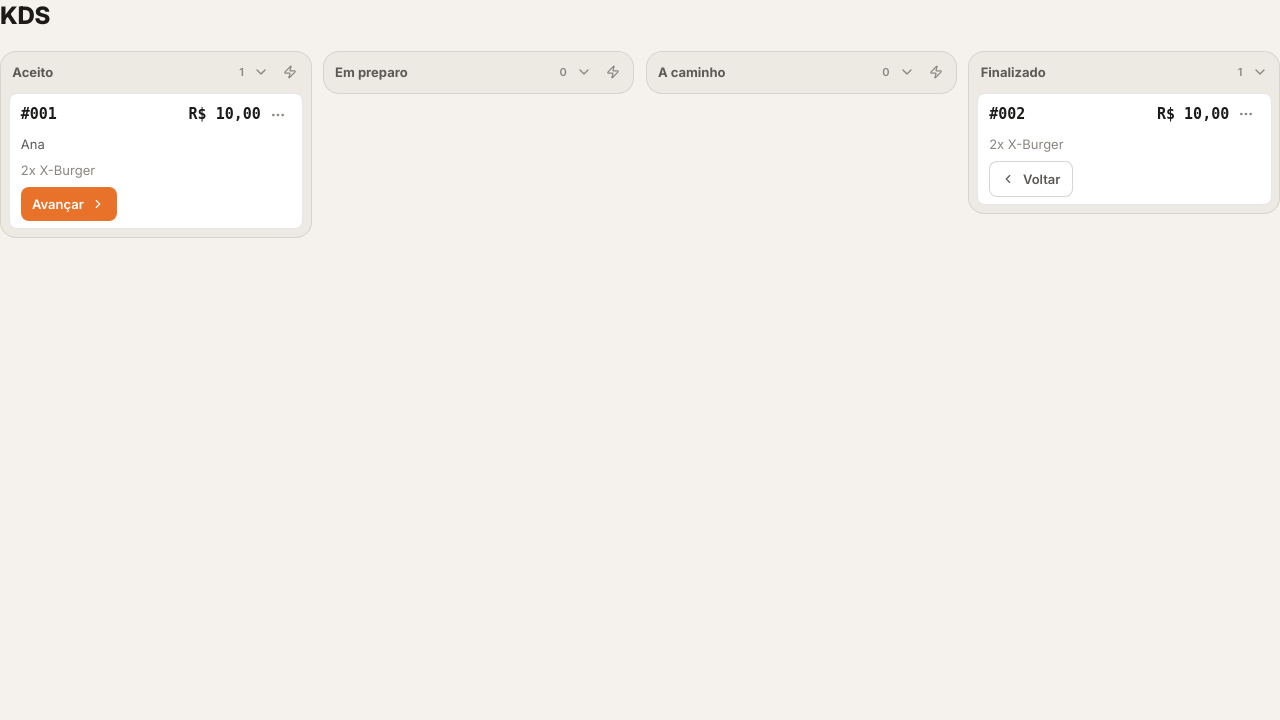
Test: KdsPage stage move modal › opens the modal instead of going back into an automated stage
Click the button named "Ativar avanço automático de A caminho". click: click(936, 72)
box: [922,59,949,86]
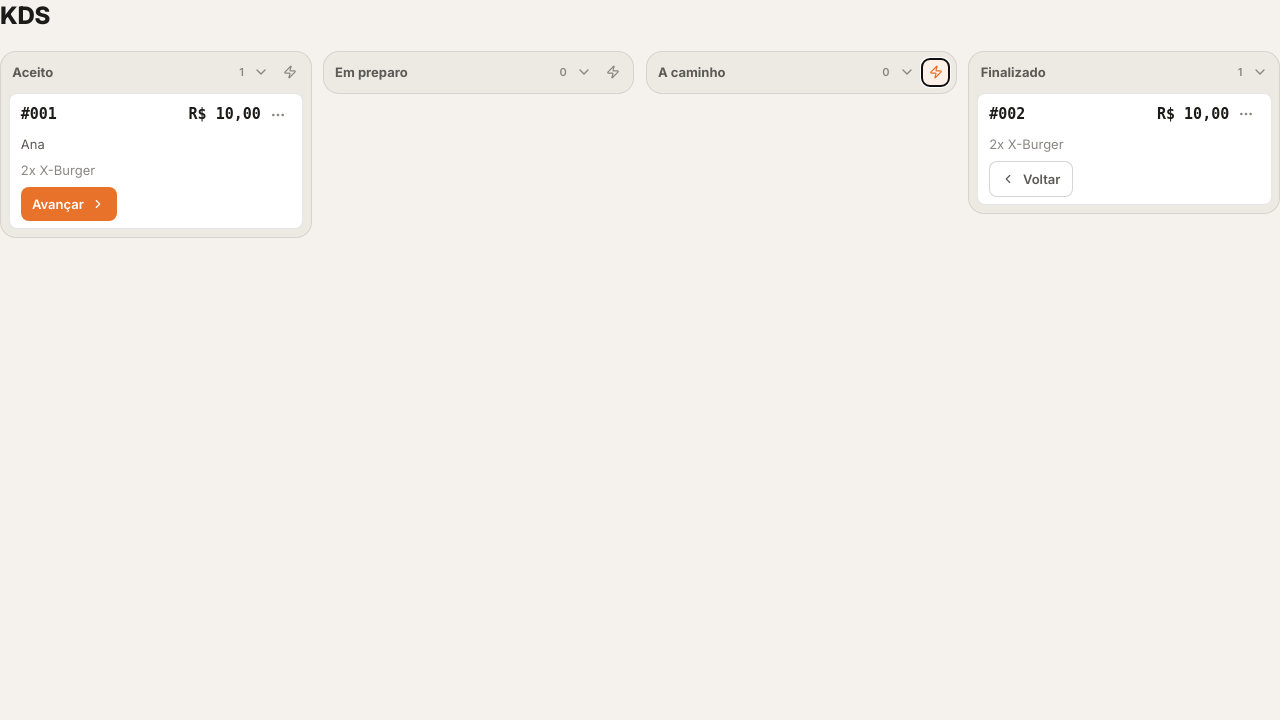
Expected: the text "#002" is shown, [989,103,1025,126]
Click the button "Voltar". click: click(1031, 179)
box: [989,161,1073,197]
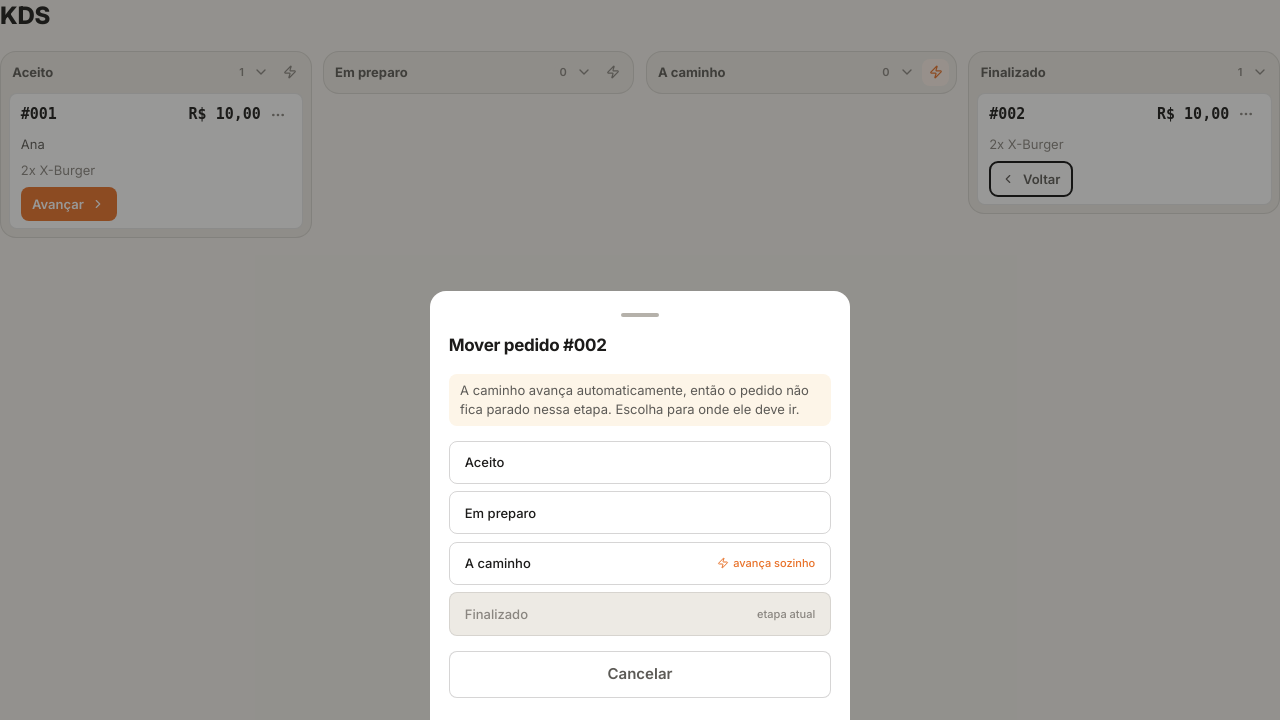
Expected: the text "A caminho avança automaticamente" is shown, [449,374,831,426]
